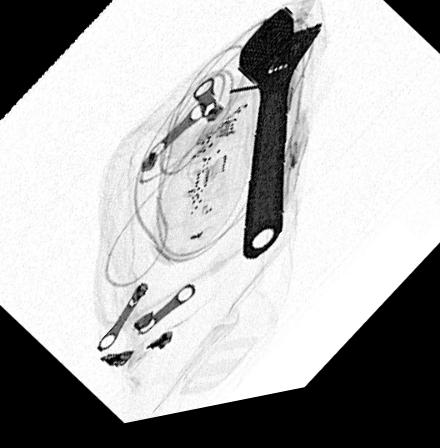Wrench: (236, 17, 321, 271)
